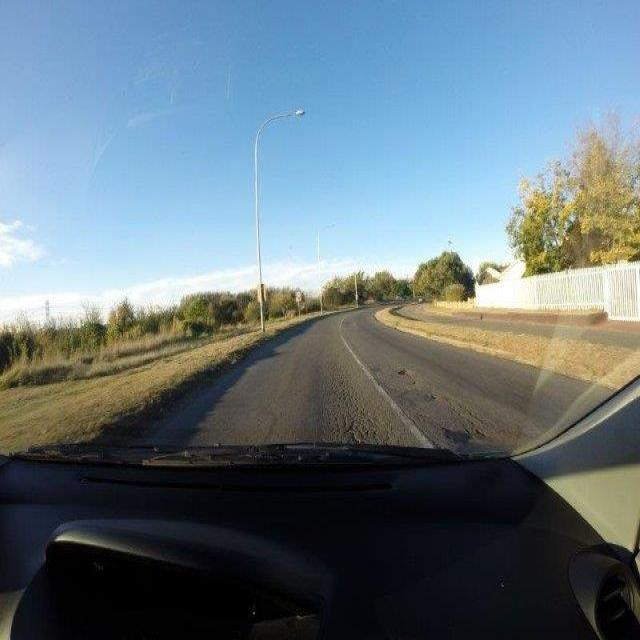jalan retak: (322, 361, 390, 446), (436, 392, 499, 437)
lubang: (436, 418, 502, 450), (425, 387, 442, 404), (396, 362, 410, 374), (411, 378, 418, 388)
